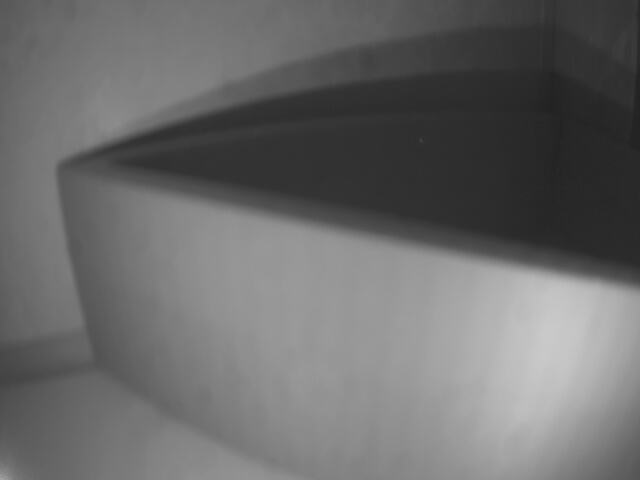Green: (55, 175, 640, 480)
